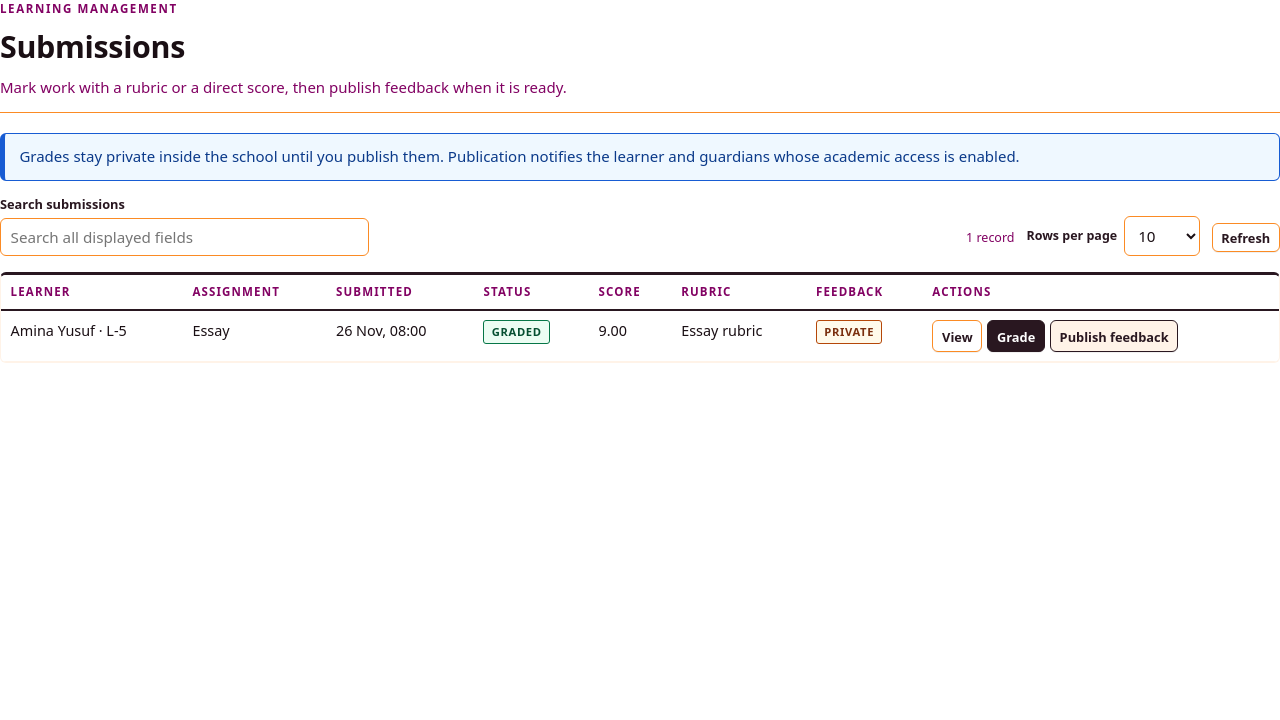
Scenario: teacher submission workflow › publishes feedback only after a normal confirmation click
Later steps or results of the test are not shown.
Click the button with aria-label "Publish feedback for Amina Yusuf" at (1114, 336), box [1050,320,1178,352]
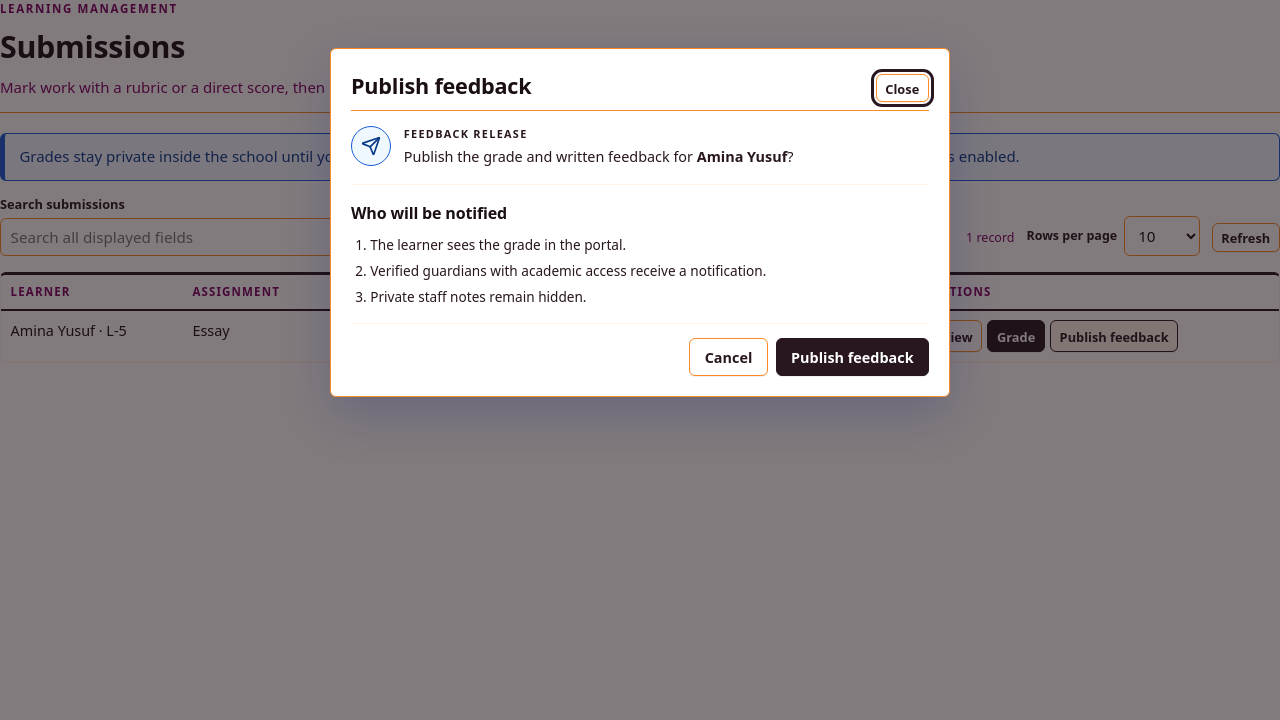
Check: the list item "Private staff notes remain hidden." is shown, box [370,287,586,306]
